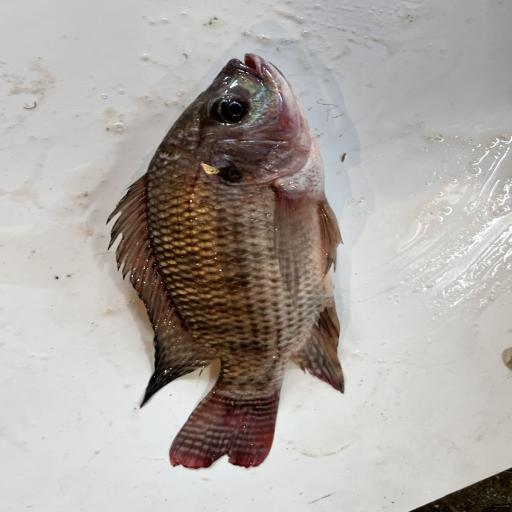Tilapia: (105, 53, 345, 469)
